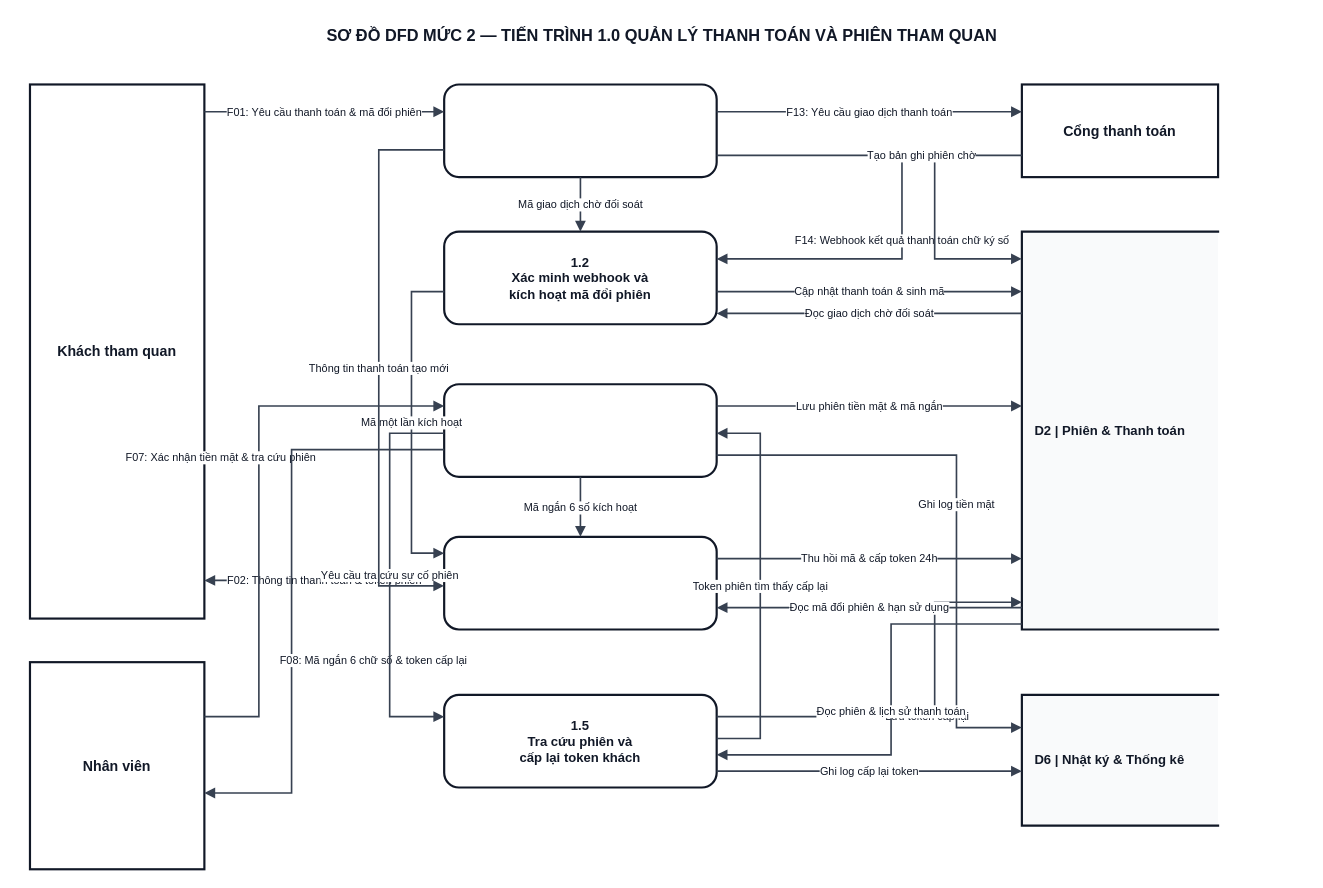
Some shapes in this 1323 by 888 pixel diagram are drawn without their labels. Here are the shapes that lost their labels. From the top down, the box of each, then its label:
(443, 83, 717, 178): 1.1 Khởi tạo phiên và yêu cầu thanh toán online
(443, 383, 717, 477): 1.3 Xác nhận tiền mặt và cấp mã ngắn 6 chữ số
(443, 535, 717, 630): 1.4 Đổi mã xác thực và cấp token phiên khách
